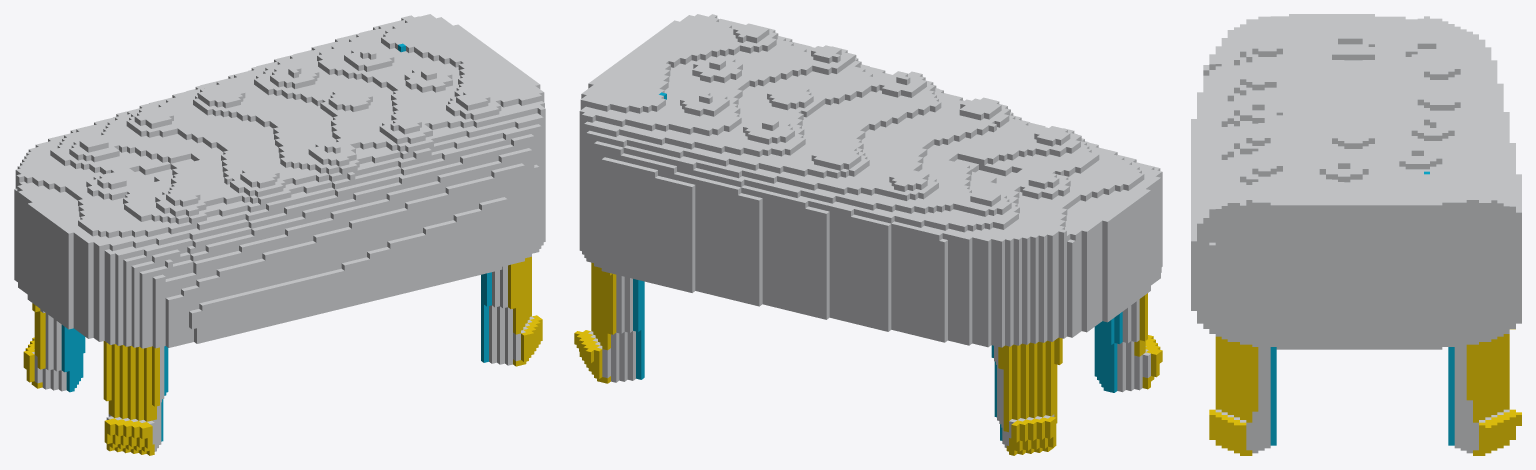
3 views of the same model, side by side, from view 1: azimuth 30°, elevation 25°; view 2: azimuth 150°, elevation 25°; view 3: azimuth 270°, elevation 25° (orthographic). The views are drawn at different scales.
Parts seen in each view (by area): view 1: =>[0:1:1:1194], =>[0:1:1:332], =>[0:1:1:709], =>[0:1:1:280], =>[0:1:1:1197], =>[0:1:1:727], =>[0:1:1:1241], =>[0:1:1:707], =>[0:1:1:476], =>[0:1:1:713], =>[0:1:1:728], =>[0:1:1:1198] (+35 smaller); view 2: =>[0:1:1:604], =>[0:1:1:1296], =>[0:1:1:1106], =>[0:1:1:1118], =>[0:1:1:736], =>[0:1:1:332], =>[0:1:1:280], =>[0:1:1:1209], =>[0:1:1:2024], =>[0:1:1:1241], =>[0:1:1:728], =>[0:1:1:476] (+26 smaller); view 3: =>[0:1:1:1008], =>[0:1:1:602], =>[0:1:1:280], =>[0:1:1:601], =>[0:1:1:746], =>[0:1:1:745], =>[0:1:1:1690], =>[0:1:1:1691], =>[0:1:1:476], =>[0:1:1:1241], =>[0:1:1:603], =>[0:1:1:1713] (+58 smaller).
Part boxes in pixels (x1=…): =>[0:1:1:1194]: x1=197, y1=238, x2=502, y2=343; =>[0:1:1:332]: x1=27, y1=204, x2=68, y2=329; =>[0:1:1:709]: x1=199, y1=247, x2=341, y2=303; =>[0:1:1:280]: x1=410, y1=14, x2=541, y2=100; =>[0:1:1:1197]: x1=202, y1=232, x2=502, y2=310; =>[0:1:1:727]: x1=73, y1=233, x2=88, y2=338; =>[0:1:1:1241]: x1=192, y1=114, x2=285, y2=170; =>[0:1:1:707]: x1=504, y1=165, x2=524, y2=238; =>[0:1:1:476]: x1=222, y1=77, x2=324, y2=147; =>[0:1:1:713]: x1=387, y1=206, x2=422, y2=241; =>[0:1:1:728]: x1=18, y1=192, x2=32, y2=294; =>[0:1:1:1198]: x1=344, y1=227, x2=502, y2=270; =>[0:1:1:604]: x1=601, y1=165, x2=692, y2=292; =>[0:1:1:1296]: x1=695, y1=185, x2=759, y2=306; =>[0:1:1:1106]: x1=762, y1=198, x2=826, y2=319; =>[0:1:1:1118]: x1=829, y1=211, x2=888, y2=331; =>[0:1:1:736]: x1=891, y1=229, x2=944, y2=342; =>[0:1:1:332]: x1=1107, y1=190, x2=1150, y2=321; =>[0:1:1:280]: x1=581, y1=14, x2=718, y2=104; =>[0:1:1:1209]: x1=948, y1=234, x2=969, y2=345; =>[0:1:1:2024]: x1=972, y1=237, x2=988, y2=347; =>[0:1:1:1241]: x1=869, y1=108, x2=959, y2=169; =>[0:1:1:728]: x1=1087, y1=221, x2=1102, y2=331; =>[0:1:1:476]: x1=783, y1=94, x2=897, y2=169; =>[0:1:1:1008]: x1=1276, y1=205, x2=1442, y2=349; =>[0:1:1:602]: x1=1442, y1=202, x2=1466, y2=346; =>[0:1:1:280]: x1=1246, y1=189, x2=1478, y2=199; =>[0:1:1:601]: x1=1252, y1=269, x2=1276, y2=346; =>[0:1:1:746]: x1=1466, y1=200, x2=1478, y2=344; =>[0:1:1:745]: x1=1240, y1=205, x2=1252, y2=344; =>[0:1:1:1690]: x1=1227, y1=203, x2=1239, y2=341; =>[0:1:1:1691]: x1=1479, y1=203, x2=1491, y2=341; =>[0:1:1:476]: x1=1283, y1=110, x2=1478, y2=118; =>[0:1:1:1241]: x1=1270, y1=87, x2=1423, y2=97; =>[0:1:1:603]: x1=1252, y1=202, x2=1270, y2=269; =>[0:1:1:1713]: x1=1491, y1=200, x2=1497, y2=339.
Size of the model in its own units: 39.22 by 20.69 by 23.27.
